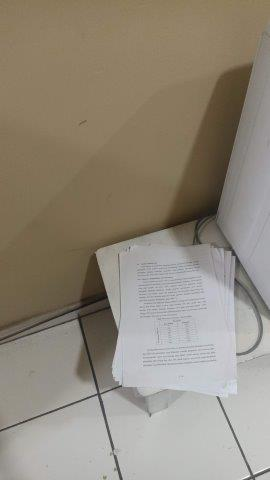kertas: (116, 242, 240, 398)
